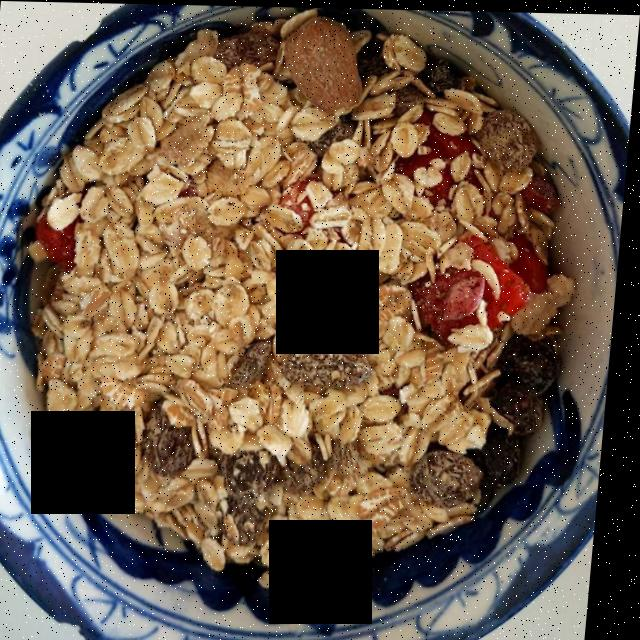berries: (40, 216, 79, 271)
muesli: (31, 23, 565, 578)
strawberries: (418, 237, 565, 333)
